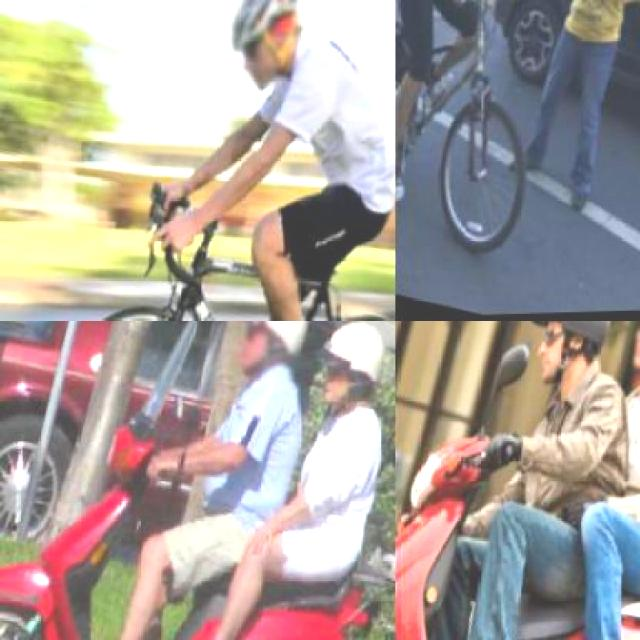With Helmet: (506, 320, 628, 403), (212, 0, 316, 97), (304, 320, 394, 420), (214, 320, 321, 392)
